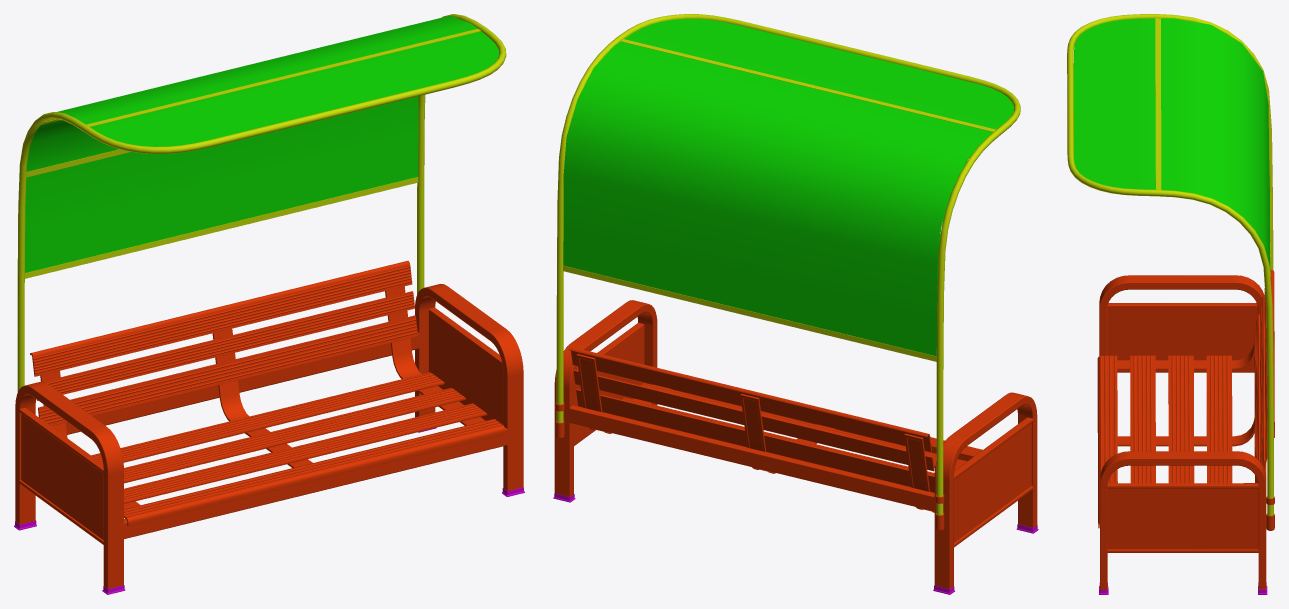
File: uploads_files_6155029_Bench.fbx
3 renders of one model, left to right at view 1: azimuth 30°, elevation 25°; view 2: azimuth 150°, elevation 25°; view 3: azimuth 270°, elevation 25°, orthographic. The views are drawn at different scales.
Parts seen in each view (by area): view 1: Bench; view 2: Bench; view 3: Bench.
Boxes of the visible parts, x1=… form: Bench: x1=14, y1=14, x2=524, y2=594; Bench: x1=553, y1=14, x2=1038, y2=594; Bench: x1=1067, y1=14, x2=1274, y2=594.
Bounding box in the file's own units: 11.85 × 12.05 × 5.66.
